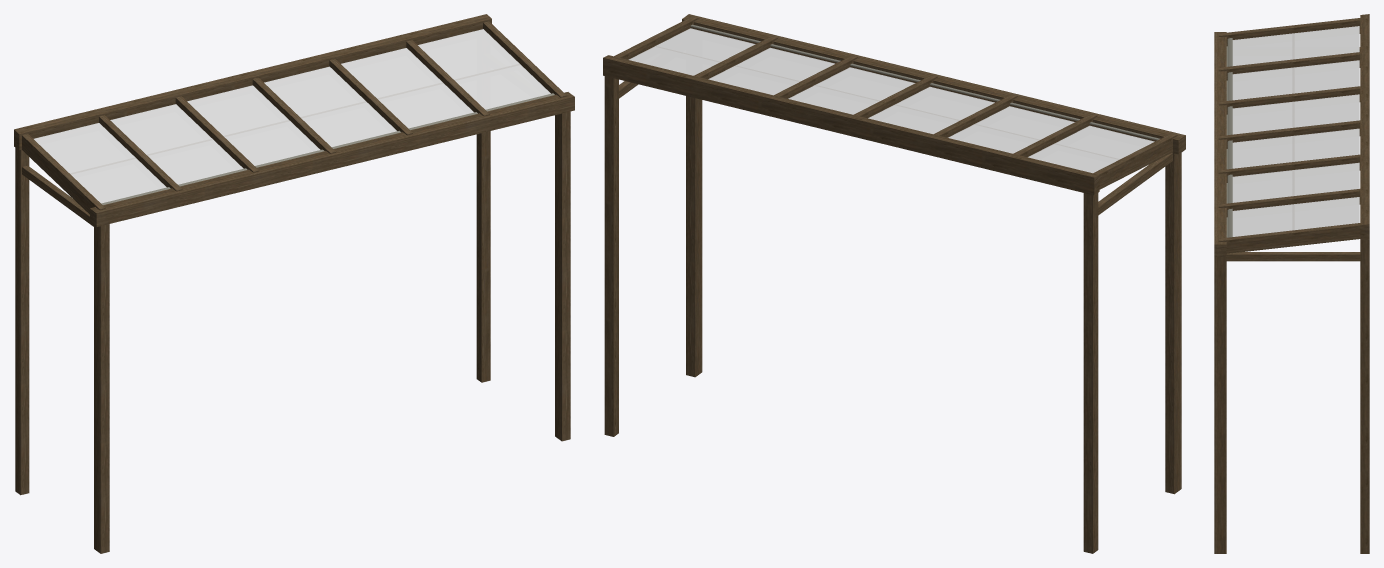
File: sp-dokuritu_2k-4s_brownebony.fbx
3 renders of one model, left to right at view 1: azimuth 30°, elevation 25°; view 2: azimuth 150°, elevation 25°; view 3: azimuth 270°, elevation 25°, orthographic. The views are drawn at different scales.
Parts seen in each view (by area): view 1: sp-dokuritu_2k-4s_brownebony; view 2: sp-dokuritu_2k-4s_brownebony; view 3: sp-dokuritu_2k-4s_brownebony.
Part boxes in pixels (x1,y1,x2,y2): sp-dokuritu_2k-4s_brownebony: (14, 14, 574, 553); sp-dokuritu_2k-4s_brownebony: (603, 14, 1185, 553); sp-dokuritu_2k-4s_brownebony: (1214, 14, 1369, 553).
Size of the model in its own units: 404 by 293 by 125.
Materials: 3 (2 with a texture image).
